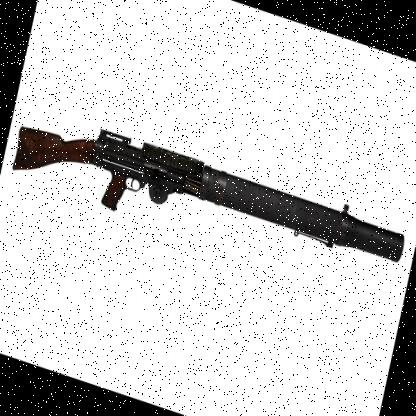rifle: (4, 100, 414, 313)
